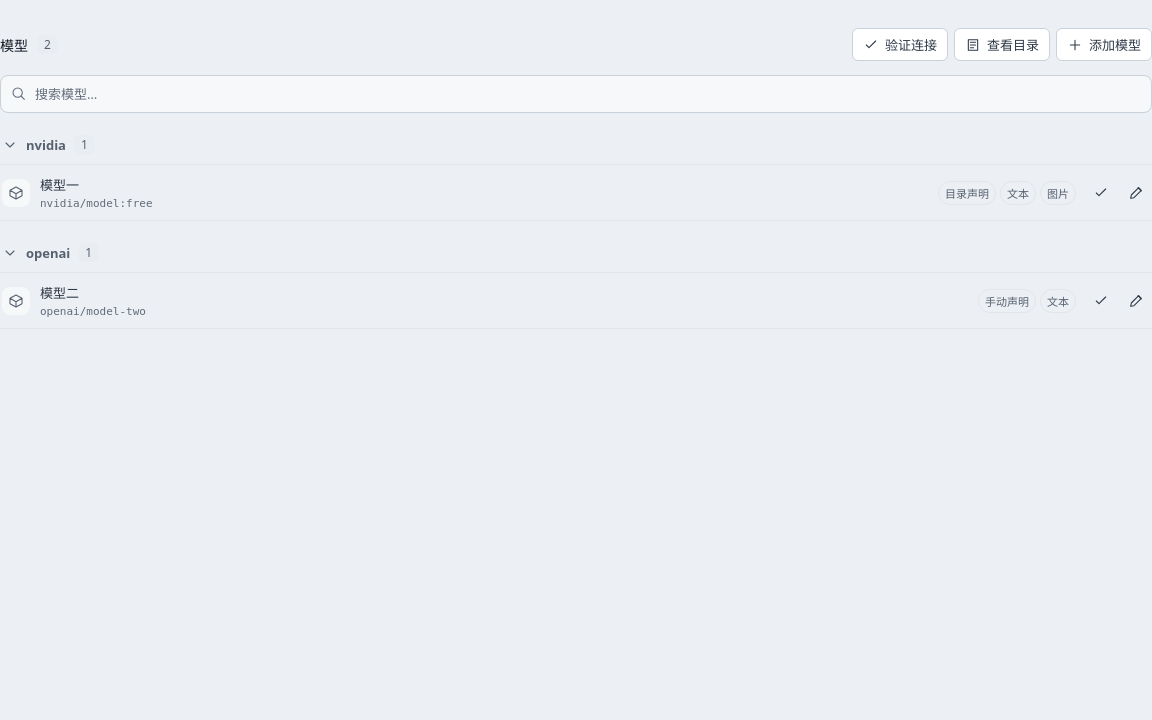
Test: 紧凑模型管理 › 保存失败保留表单且不自动重做，错误清楚可见
Check: the text "模型一" is shown, box 40,176 -> 79,194
Step 1. Click the button named "编辑 模型一" → click(1136, 192), box 1121,178 -> 1150,207
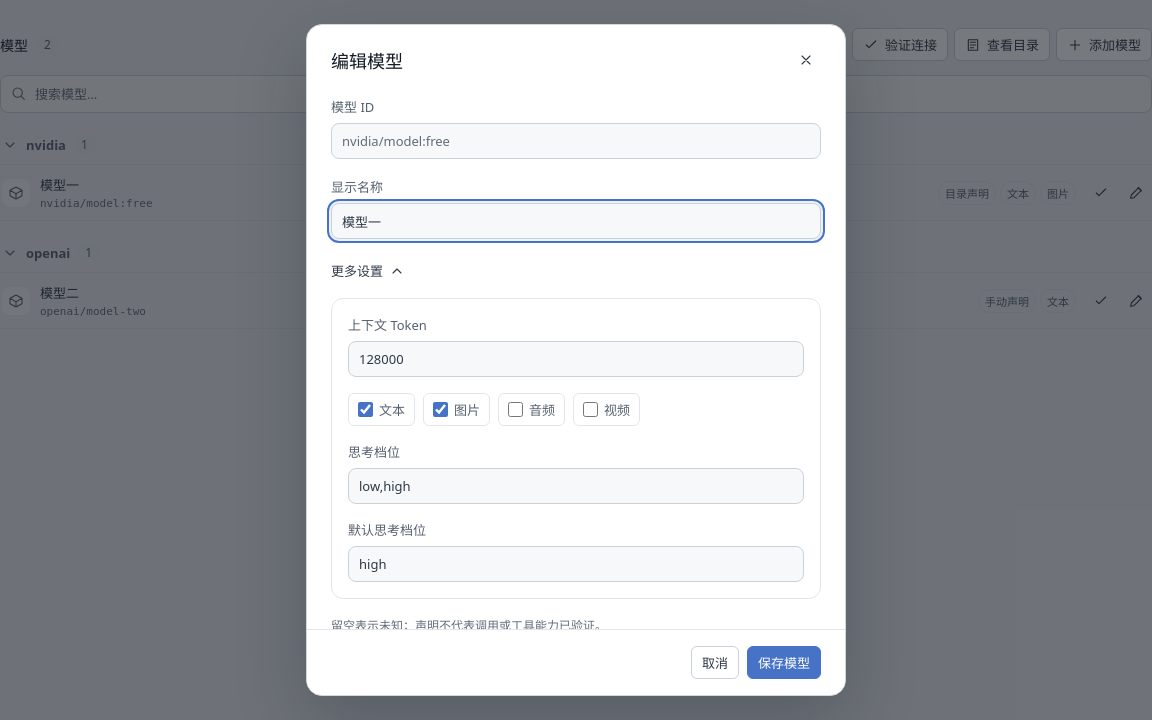
Step 2. Click the button "保存模型" → click(784, 662), box 747,646 -> 821,679
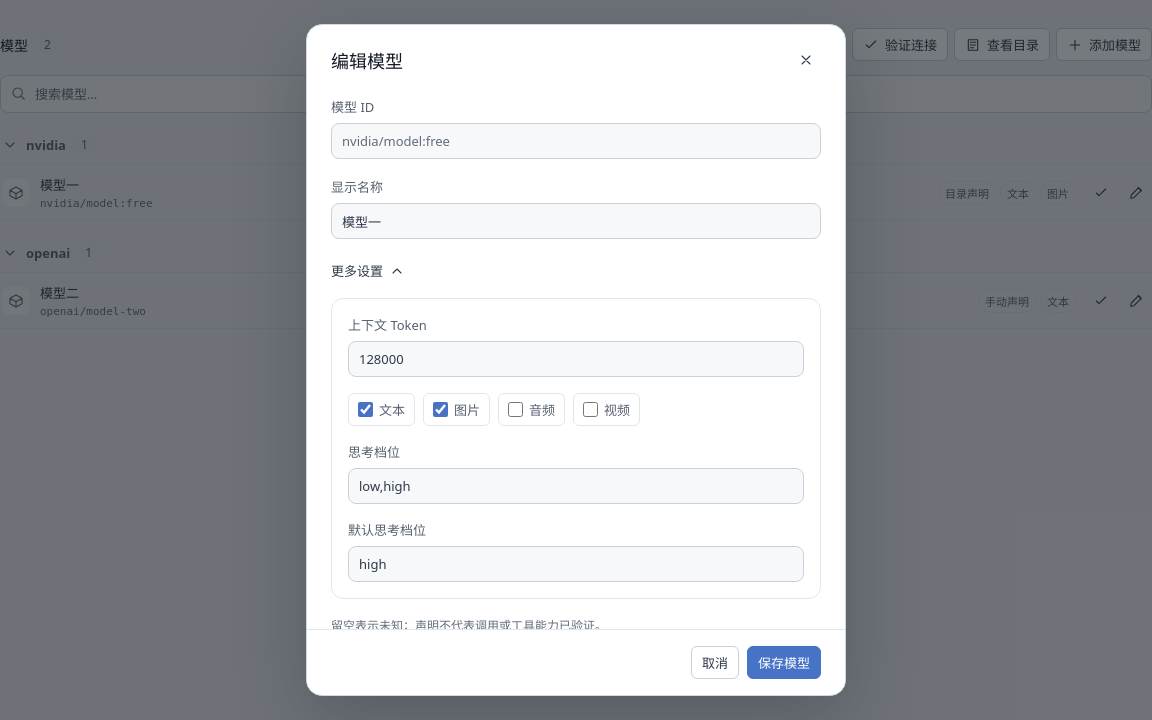
Check: the field labelled "模型 ID" holds "nvidia/model:free", box 331,123 -> 821,159
Step 3. Click the button "取消" → click(715, 662), box 691,646 -> 739,679
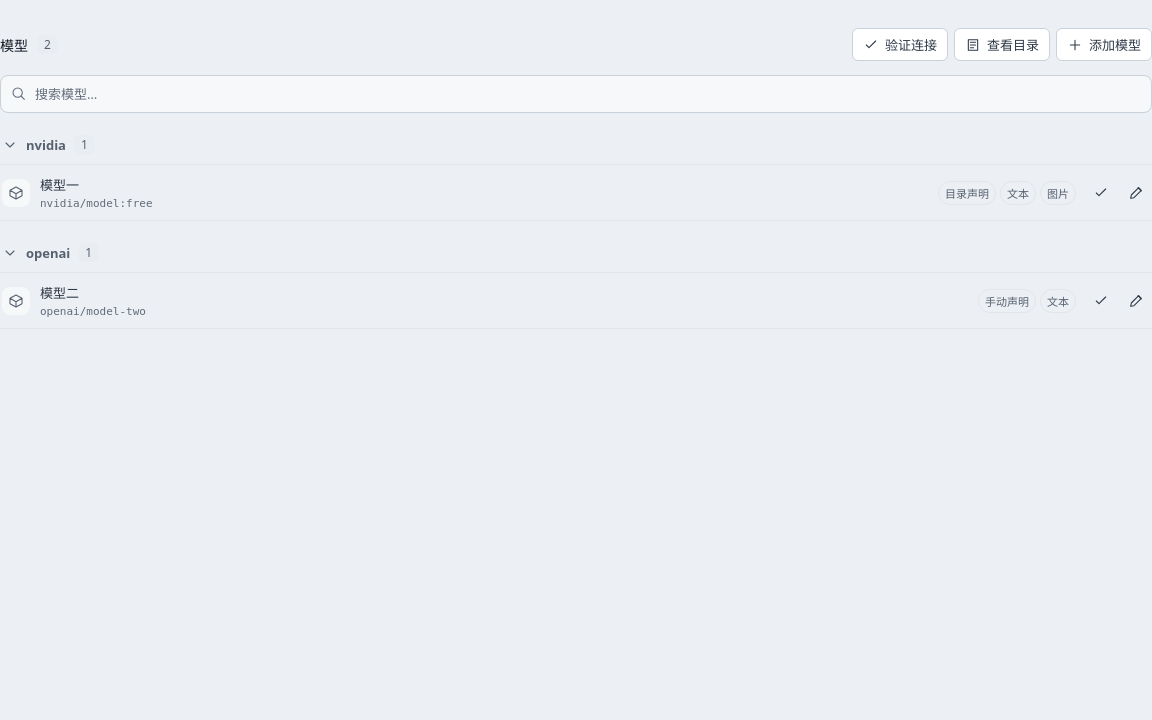
Check: the dialog is gone
